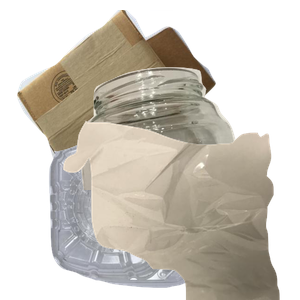cardboard: (14, 10, 222, 190)
glass: (74, 65, 300, 245)
plastic: (46, 130, 227, 300)
trash: (61, 120, 300, 300)
